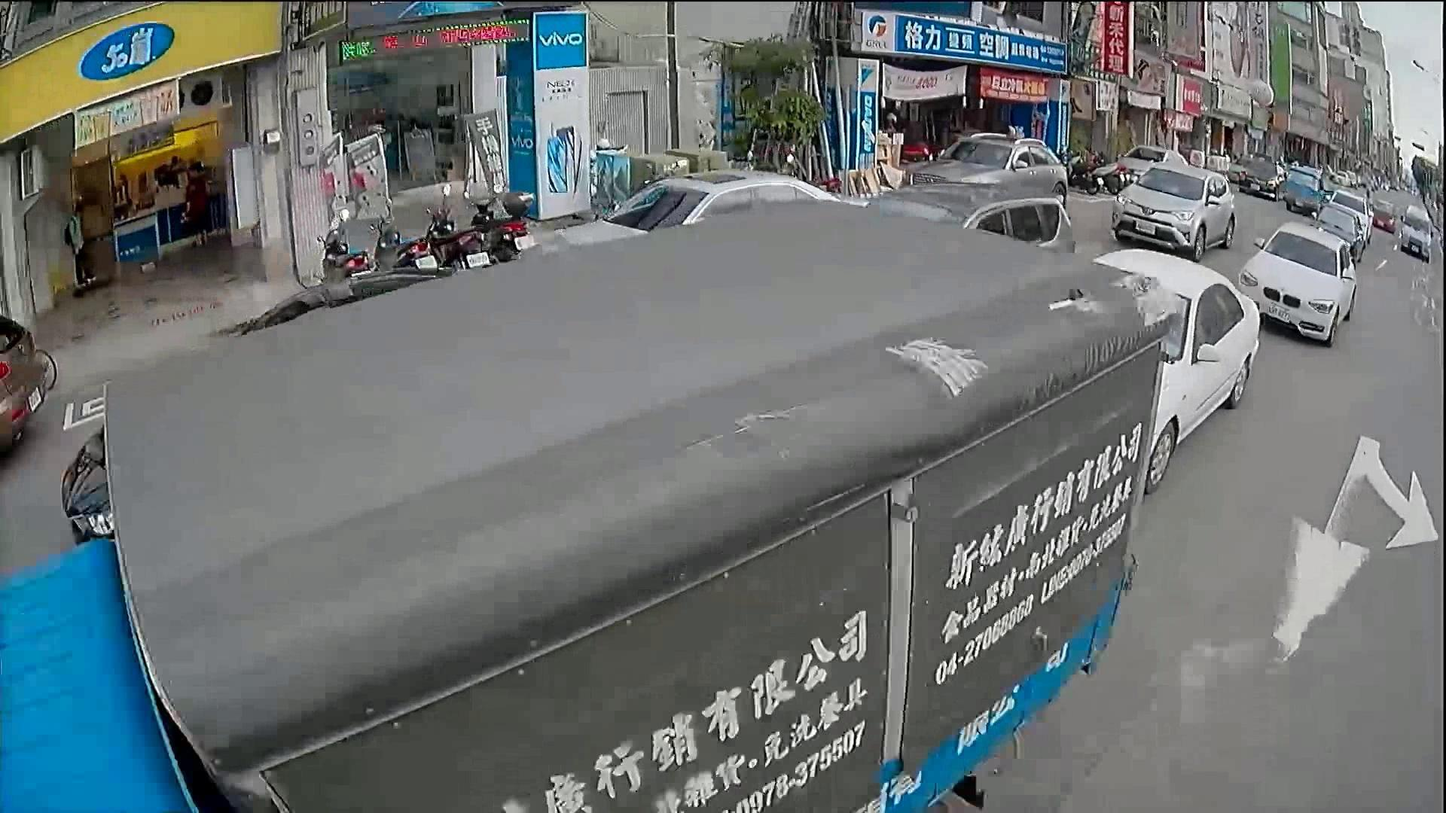person: (59, 193, 101, 293), (174, 164, 207, 248)
